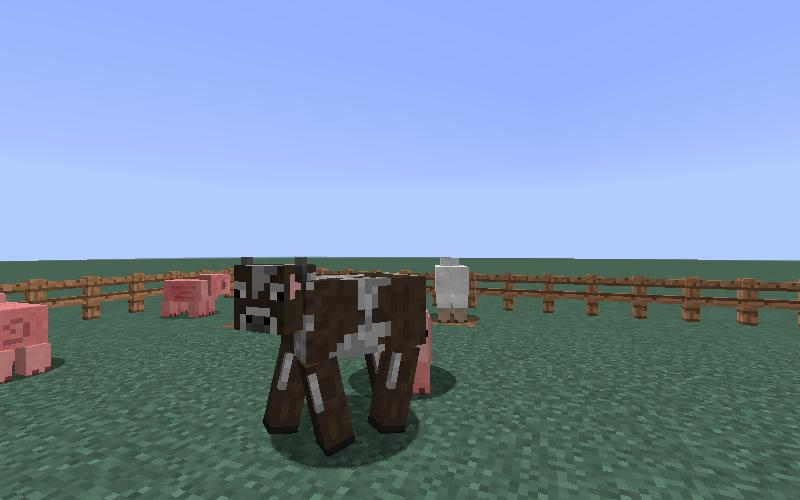cow: (232, 253, 428, 461)
pig: (1, 290, 52, 382), (156, 267, 233, 327)
sheep: (431, 253, 470, 327)
